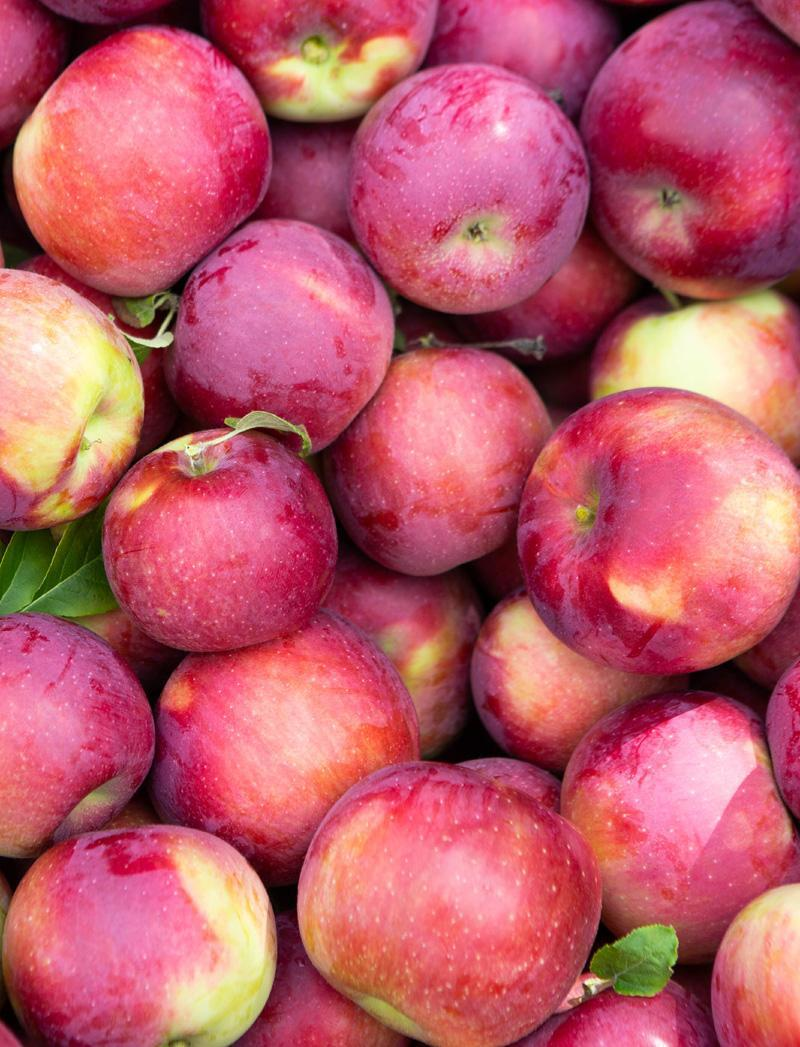apple: (313, 773, 630, 1047), (515, 399, 792, 681), (6, 28, 273, 294), (579, 2, 800, 302), (157, 656, 423, 895), (368, 74, 616, 330), (563, 704, 794, 977), (3, 824, 276, 1042), (100, 419, 338, 655), (165, 222, 394, 444), (334, 344, 550, 578), (1, 264, 144, 528), (467, 586, 667, 774), (1, 608, 152, 856), (587, 286, 800, 461), (199, 1, 432, 123), (422, 2, 615, 115), (1, 1, 67, 150)
